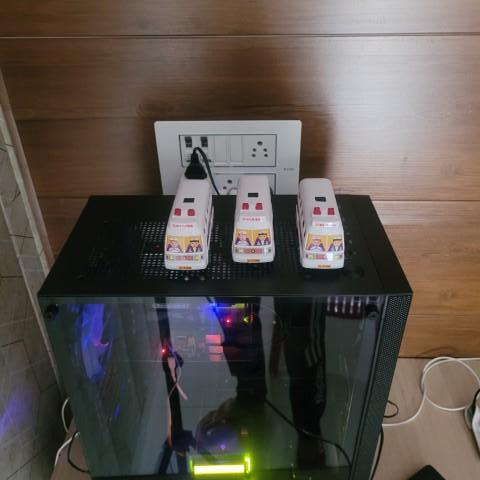ambulance: (292, 172, 349, 271), (162, 175, 216, 275), (232, 173, 279, 267)
